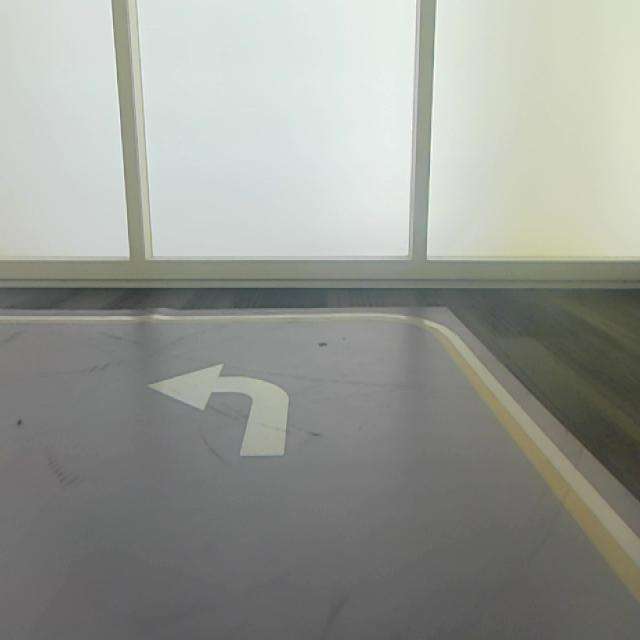right_lane: (433, 331, 640, 607)
